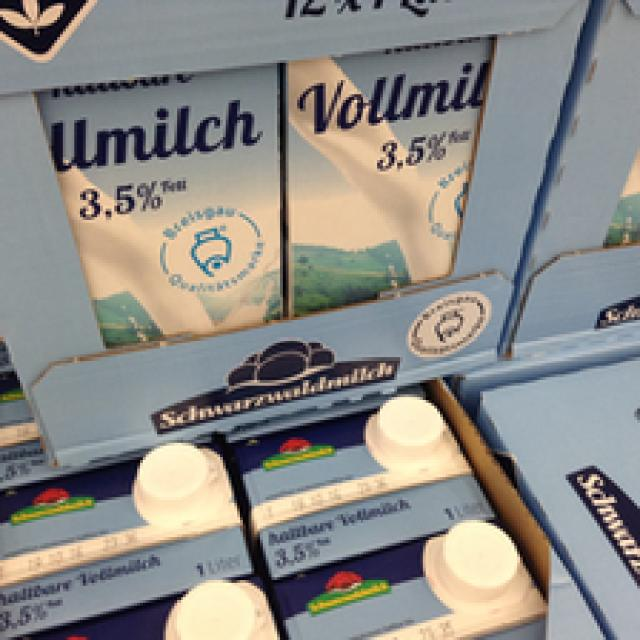groceries: (6, 60, 291, 357), (277, 31, 514, 326)
